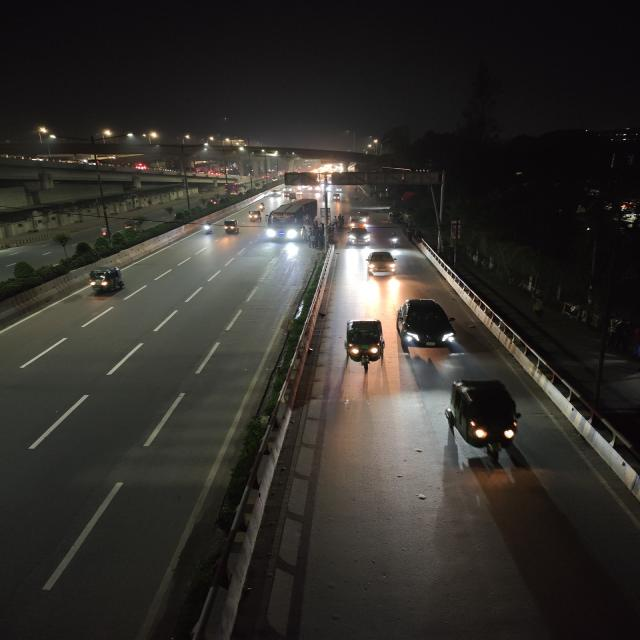bus: (266, 199, 319, 243)
car: (394, 295, 462, 357), (361, 248, 401, 278), (345, 226, 373, 248)
cng: (442, 375, 529, 459), (340, 316, 388, 376), (84, 264, 130, 298), (221, 218, 242, 235), (247, 208, 264, 224), (357, 210, 372, 222)
motorcycle: (386, 231, 403, 249), (200, 218, 216, 236)
